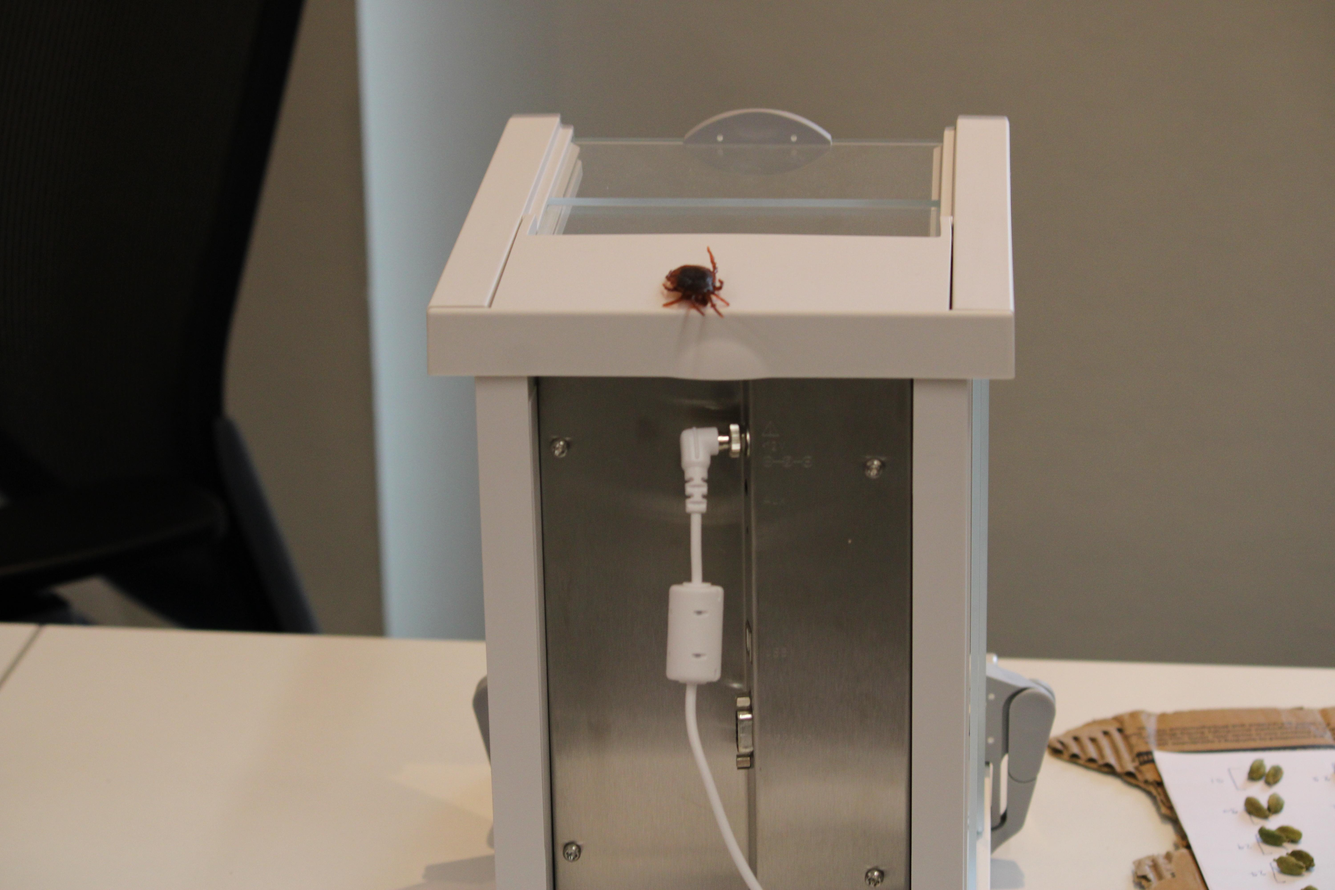cockroach: (648, 247, 730, 317)
